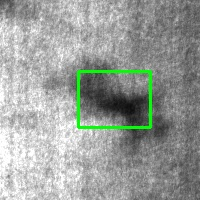patches: (78, 71, 150, 127)
